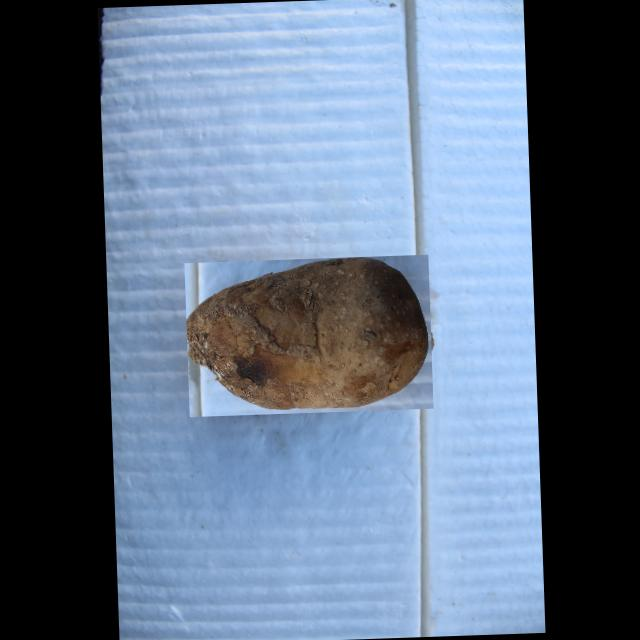Diseased-fungal potato: (183, 254, 432, 416)
